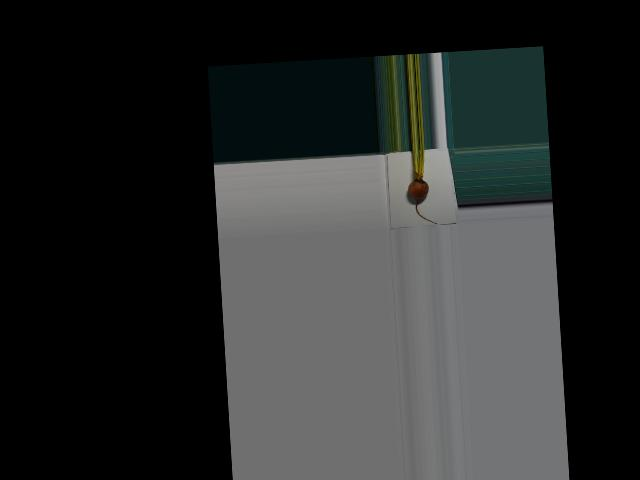beet: (405, 149, 436, 225)
